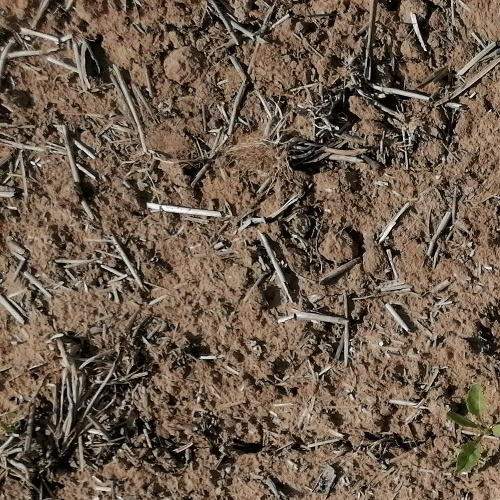beet: (445, 384, 500, 477)
